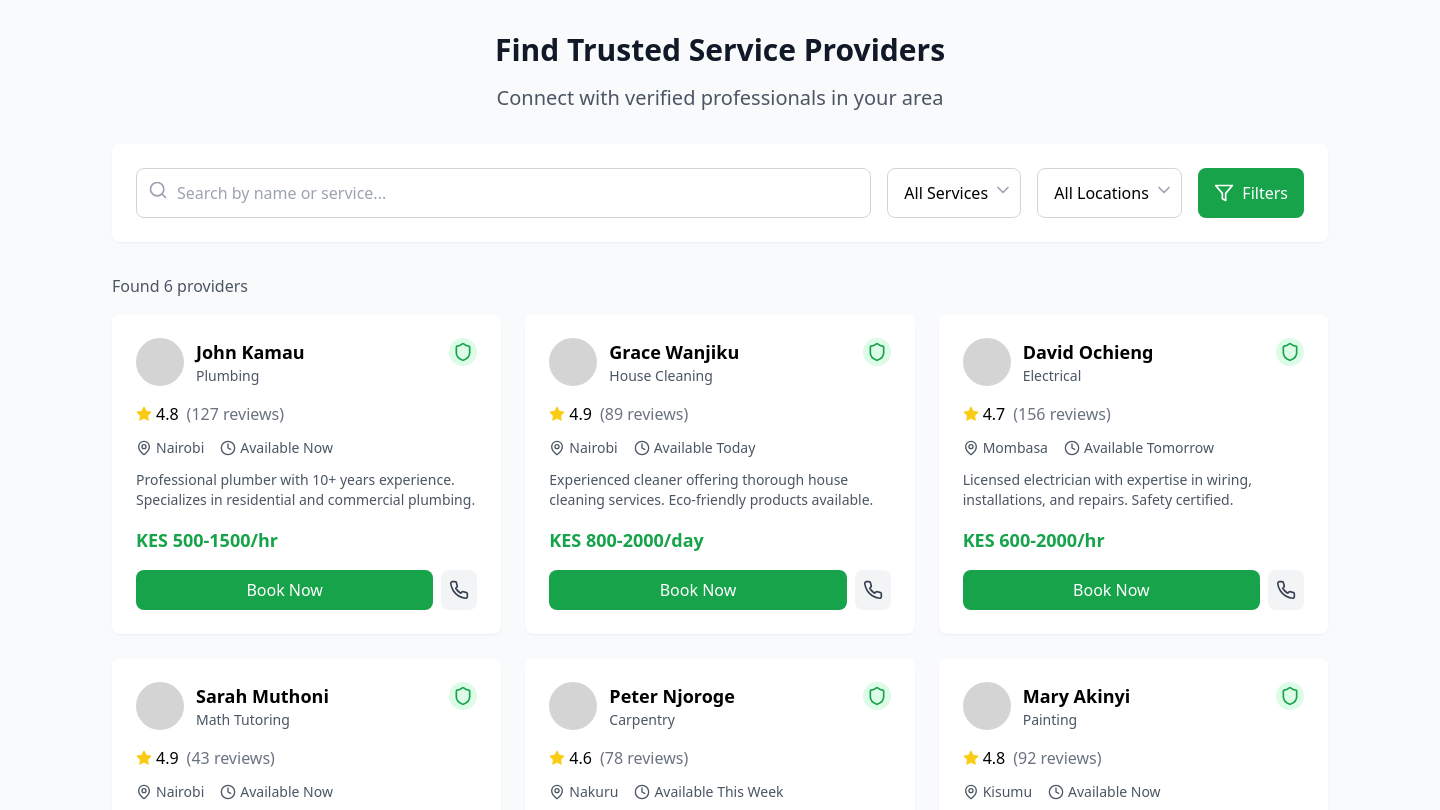
ProvidersPage Component › category filter works
The image size is (1440, 810).
Select "Plumbing" in the 1st dropdown showing "All Services": (954, 193) top-left (887, 168), bottom-right (1021, 218)
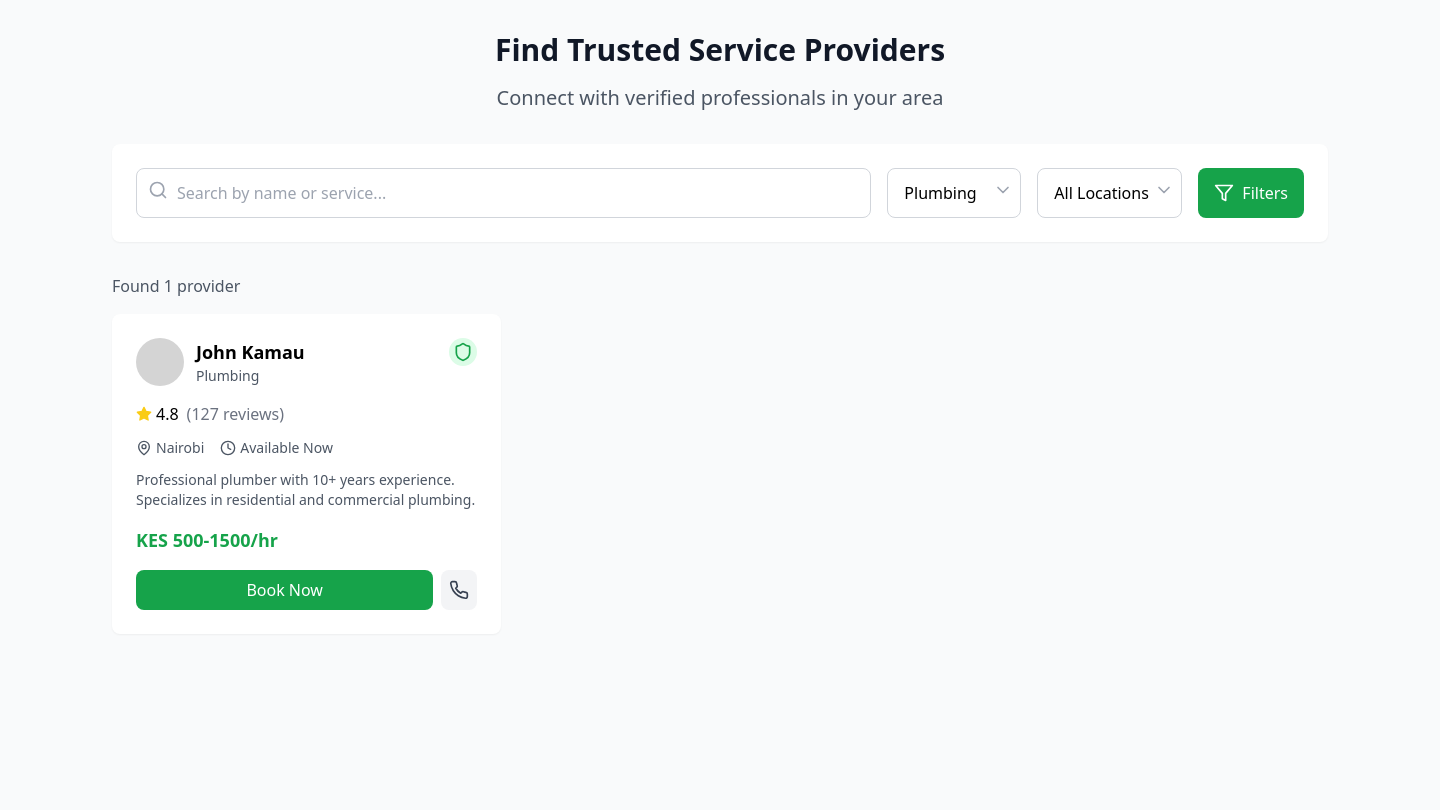
Check: the heading "John Kamau" is shown, box top-left (196, 338), bottom-right (305, 366)
Check: the heading "Grace Wanjiku" is gone
